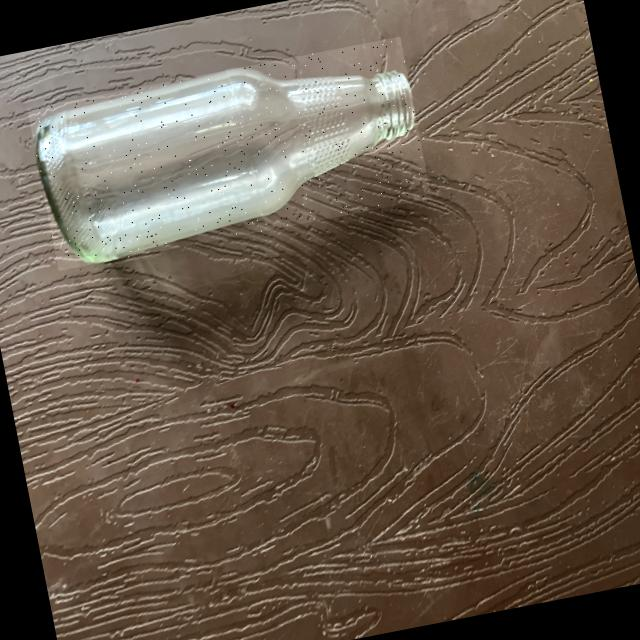Glass_Bottle: (35, 68, 413, 261)
